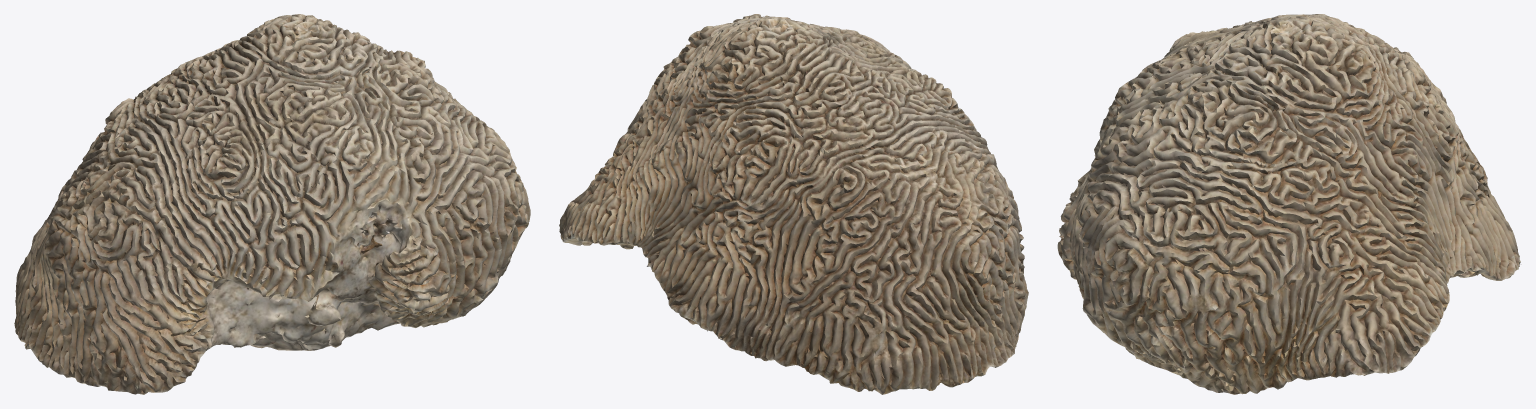
Rendered from meandrina.glb.
3 renders of one model, left to right at view 1: azimuth 30°, elevation 25°; view 2: azimuth 150°, elevation 25°; view 3: azimuth 270°, elevation 25°, orthographic. The views are drawn at different scales.
Parts seen in each view (by area): view 1: Object_4, Object_5; view 2: Object_4, Object_5; view 3: Object_4, Object_5.
Part boxes in pixels (x1=…): Object_4: x1=14, y1=18, x2=521, y2=394; Object_5: x1=16, y1=14, x2=530, y2=394; Object_4: x1=559, y1=14, x2=1028, y2=391; Object_5: x1=568, y1=25, x2=1023, y2=394; Object_4: x1=1057, y1=14, x2=1520, y2=394; Object_5: x1=1058, y1=14, x2=1508, y2=394.
Size of the model in its own units: 0.4028 by 0.257 by 0.3412.
Materials: 1 (1 with a texture image).
